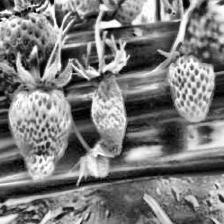Gray Mold: (70, 40, 127, 156)
